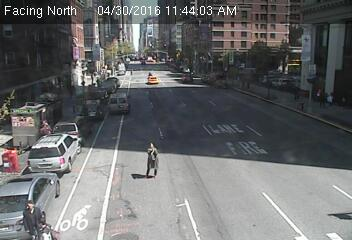neg: (57, 127, 88, 168), (42, 171, 63, 198), (262, 24, 282, 51), (291, 32, 311, 58), (174, 61, 193, 87), (84, 104, 102, 127), (104, 94, 120, 115), (235, 15, 250, 35), (146, 68, 157, 83), (121, 33, 131, 47)
pos: (13, 199, 44, 239), (137, 141, 163, 176), (307, 83, 328, 110), (37, 121, 55, 145)
